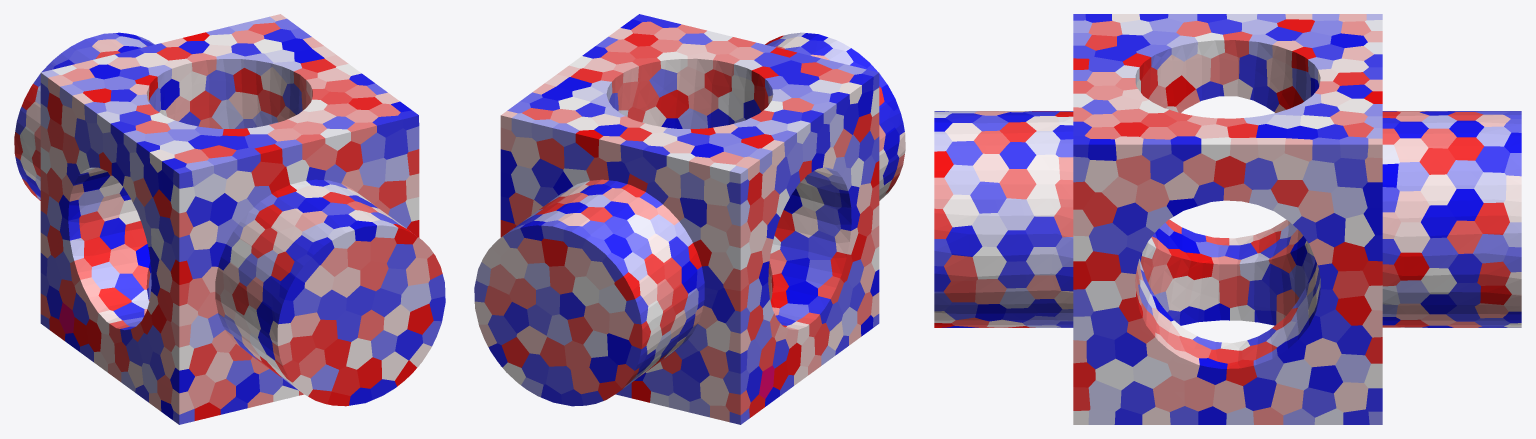
The model's file is Ours_1000_block_Iter29_RVD.obj.
The picture shows the model from 3 angles, left to right: view 1: azimuth 30°, elevation 25°; view 2: azimuth 150°, elevation 25°; view 3: azimuth 270°, elevation 25°; orthographic projection. The views are drawn at different scales.
Parts seen in each view (by area): view 1: 3D_Object; view 2: 3D_Object; view 3: 3D_Object.
Boxes of the visible parts, bbox=[...] form: 3D_Object: bbox=[14, 14, 445, 424]; 3D_Object: bbox=[474, 14, 905, 424]; 3D_Object: bbox=[934, 14, 1521, 424].
Bounding box in the file's own units: 20 × 20 × 38.
Materials: 1 (1 with a texture image).
